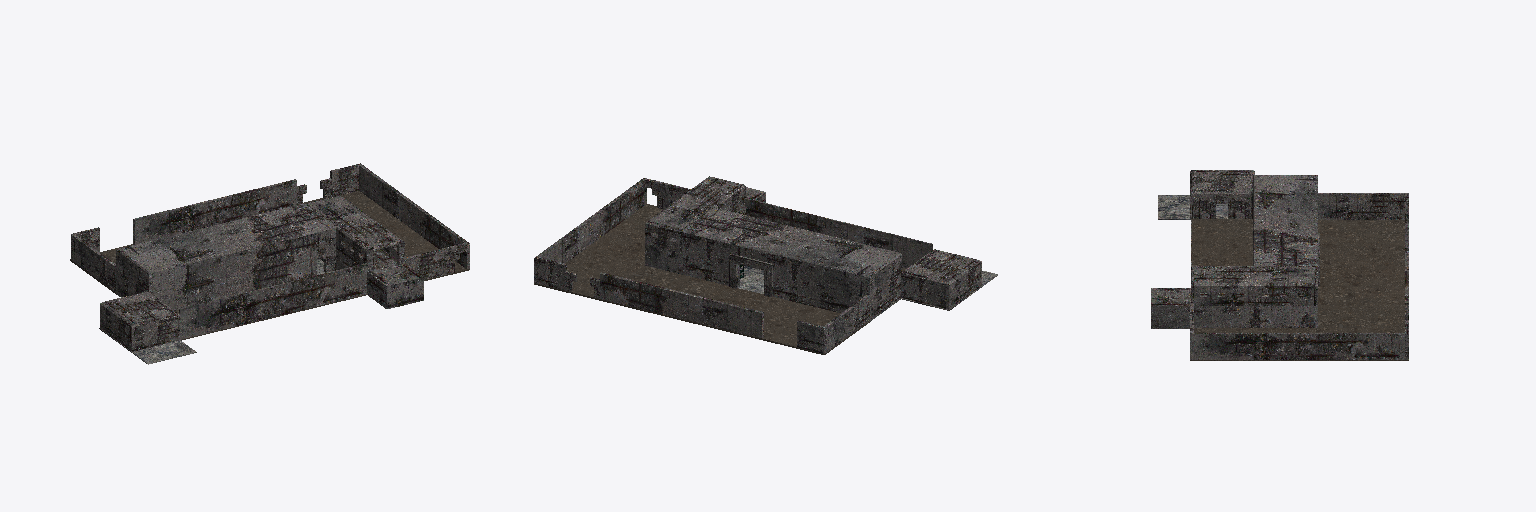
The picture shows the model from 3 angles: view 1: azimuth 30°, elevation 25°; view 2: azimuth 150°, elevation 25°; view 3: azimuth 270°, elevation 25°; orthographic projection.
Parts seen in each view (by area): view 1: moratorium:new_moratorium:polySurface12, moratorium:new_moratorium:pCube5, moratorium:new_moratorium:pCube26, moratorium:new_moratorium:pCube33, moratorium:new_moratorium:pCube38, moratorium:new_moratorium:group11, moratorium:new_moratorium:group14, moratorium:new_moratorium:pCube36, moratorium:new_moratorium:polySurface16, moratorium:new_moratorium:pCube35, moratorium:new_moratorium:pCube28, moratorium:new_moratorium:polySurface6new_mora1 (+5 smaller); view 2: moratorium:new_moratorium:pCube5, moratorium:new_moratorium:group5, moratorium:new_moratorium:pCube33, moratorium:new_moratorium:pCube36, moratorium:new_moratorium:group18, moratorium:new_moratorium:pCube26, moratorium:new_moratorium:pCube38, moratorium:new_moratorium:group15, moratorium:new_moratorium:group14, moratorium:new_moratorium:polySurface6new_mora1, moratorium:new_moratorium:pCube35, moratorium:new_moratorium:polySurface17 (+7 smaller); view 3: moratorium:new_moratorium:group5, moratorium:new_moratorium:pCube5, moratorium:new_moratorium:pCube38, moratorium:new_moratorium:group11, moratorium:new_moratorium:pCube8, moratorium:new_moratorium:polySurface23, moratorium:new_moratorium:pCube35, moratorium:new_moratorium:group14, moratorium:new_moratorium:pCube36, moratorium:new_moratorium:pCube28, moratorium:new_moratorium:pCube27, moratorium:new_moratorium:pCube29 (+1 smaller).
Part boxes in pixels (left/top/right/bottom): moratorium:new_moratorium:polySurface12: left=152, top=233, right=316, bottom=309; moratorium:new_moratorium:pCube5: left=116, top=204, right=335, bottom=273; moratorium:new_moratorium:pCube26: left=179, top=263, right=367, bottom=339; moratorium:new_moratorium:pCube33: left=133, top=179, right=296, bottom=244; moratorium:new_moratorium:pCube38: left=359, top=165, right=469, bottom=268; moratorium:new_moratorium:group11: left=321, top=242, right=423, bottom=308; moratorium:new_moratorium:group14: left=308, top=196, right=398, bottom=247; moratorium:new_moratorium:pCube36: left=303, top=191, right=469, bottom=280; moratorium:new_moratorium:polySurface16: left=130, top=313, right=179, bottom=351; moratorium:new_moratorium:pCube35: left=72, top=235, right=115, bottom=291; moratorium:new_moratorium:pCube28: left=105, top=291, right=174, bottom=323; moratorium:new_moratorium:polySurface6new_mora1: left=116, top=251, right=148, bottom=296; moratorium:new_moratorium:pCube5: left=683, top=208, right=901, bottom=277; moratorium:new_moratorium:group5: left=599, top=266, right=869, bottom=354; moratorium:new_moratorium:pCube33: left=600, top=272, right=763, bottom=337; moratorium:new_moratorium:pCube36: left=534, top=204, right=662, bottom=299; moratorium:new_moratorium:group18: left=767, top=253, right=866, bottom=312; moratorium:new_moratorium:pCube26: left=745, top=198, right=932, bottom=268; moratorium:new_moratorium:pCube38: left=536, top=178, right=646, bottom=262; moratorium:new_moratorium:group15: left=682, top=232, right=735, bottom=285; moratorium:new_moratorium:group14: left=650, top=177, right=740, bottom=228; moratorium:new_moratorium:polySurface6new_mora1: left=867, top=255, right=901, bottom=319; moratorium:new_moratorium:pCube35: left=823, top=295, right=869, bottom=352; moratorium:new_moratorium:polySurface17: left=901, top=271, right=947, bottom=308; moratorium:new_moratorium:group5: left=1318, top=220, right=1404, bottom=327; moratorium:new_moratorium:pCube5: left=1253, top=175, right=1317, bottom=266; moratorium:new_moratorium:pCube38: left=1190, top=333, right=1405, bottom=359; moratorium:new_moratorium:group11: left=1151, top=288, right=1317, bottom=328; moratorium:new_moratorium:pCube8: left=1192, top=219, right=1252, bottom=265; moratorium:new_moratorium:polySurface23: left=1194, top=283, right=1313, bottom=305; moratorium:new_moratorium:pCube35: left=1318, top=193, right=1405, bottom=219; moratorium:new_moratorium:group14: left=1194, top=267, right=1314, bottom=282; moratorium:new_moratorium:pCube36: left=1190, top=328, right=1408, bottom=360; moratorium:new_moratorium:pCube28: left=1194, top=171, right=1250, bottom=191; moratorium:new_moratorium:pCube27: left=1158, top=195, right=1227, bottom=219; moratorium:new_moratorium:pCube29: left=1228, top=192, right=1250, bottom=218.
Bounding box in the file's own units: 218 × 28.05 × 144.
7 materials, 4 textured.